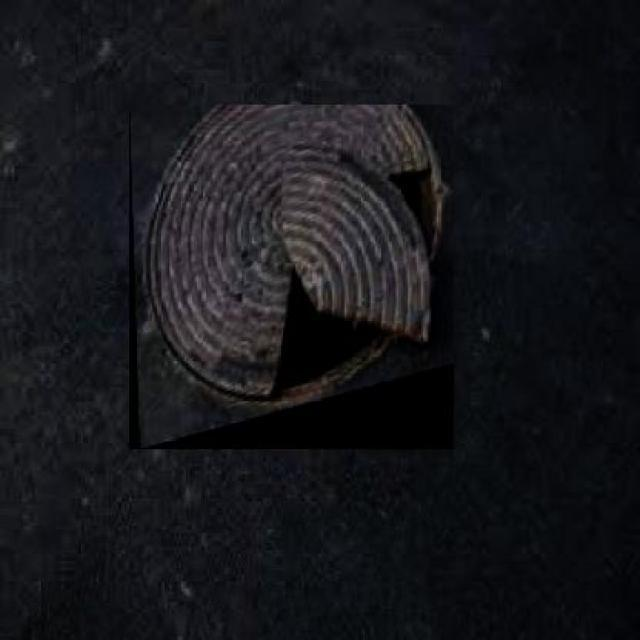Open Manhole: (129, 104, 454, 450)
